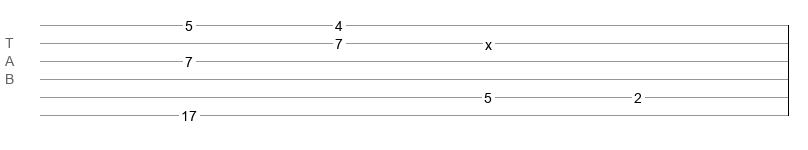17: (181, 108, 197, 118)
2: (634, 90, 642, 100)
4: (335, 18, 343, 28)
5: (185, 18, 193, 28), (484, 90, 492, 100)
7: (185, 54, 193, 64), (335, 36, 343, 46)
x: (485, 37, 492, 45)
